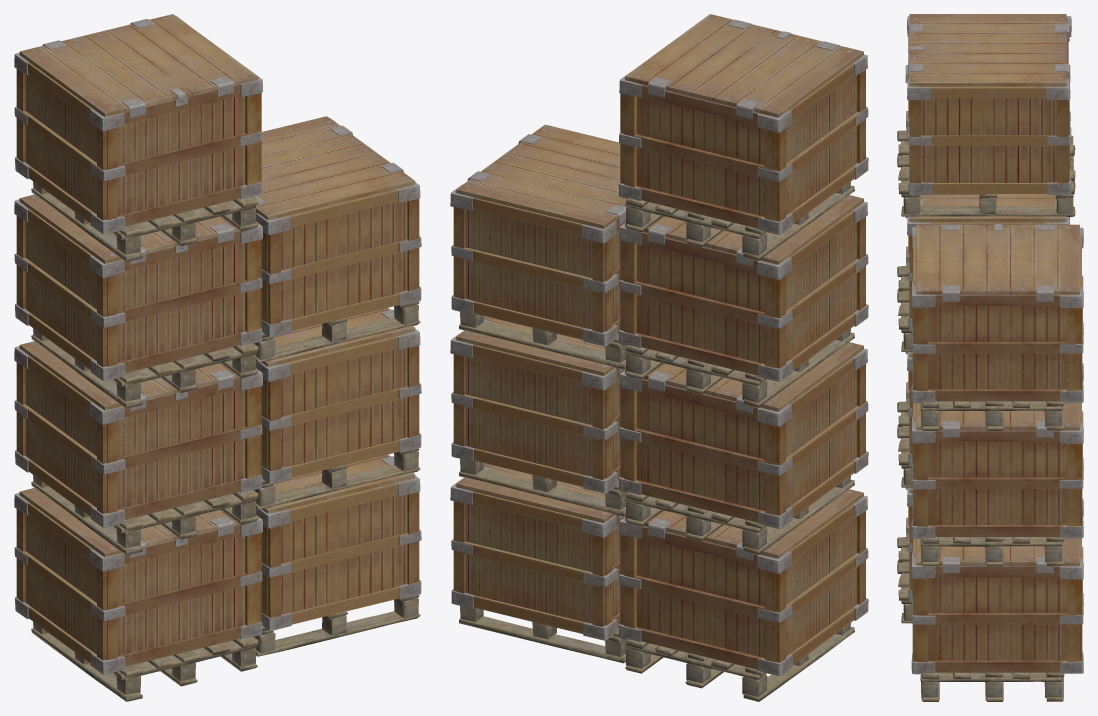
Rendered from BoxesTest2.fbx.
3 views of the same model, side by side, from view 1: azimuth 30°, elevation 25°; view 2: azimuth 150°, elevation 25°; view 3: azimuth 270°, elevation 25° (orthographic). The views are drawn at different scales.
Visible parts, largest first — view 1: MAP_Warehouse_Main|SM_MERGED_SM_Crate_Small6|Dupli|3205; view 2: MAP_Warehouse_Main|SM_MERGED_SM_Crate_Small6|Dupli|3205; view 3: MAP_Warehouse_Main|SM_MERGED_SM_Crate_Small6|Dupli|3205.
Part boxes in pixels (x1=…): MAP_Warehouse_Main|SM_MERGED_SM_Crate_Small6|Dupli|3205: x1=14, y1=14, x2=421, y2=701; MAP_Warehouse_Main|SM_MERGED_SM_Crate_Small6|Dupli|3205: x1=450, y1=14, x2=868, y2=701; MAP_Warehouse_Main|SM_MERGED_SM_Crate_Small6|Dupli|3205: x1=897, y1=14, x2=1083, y2=701.
Bounding box in the file's own units: 272 × 469 × 146.
2 materials, 2 textured.
